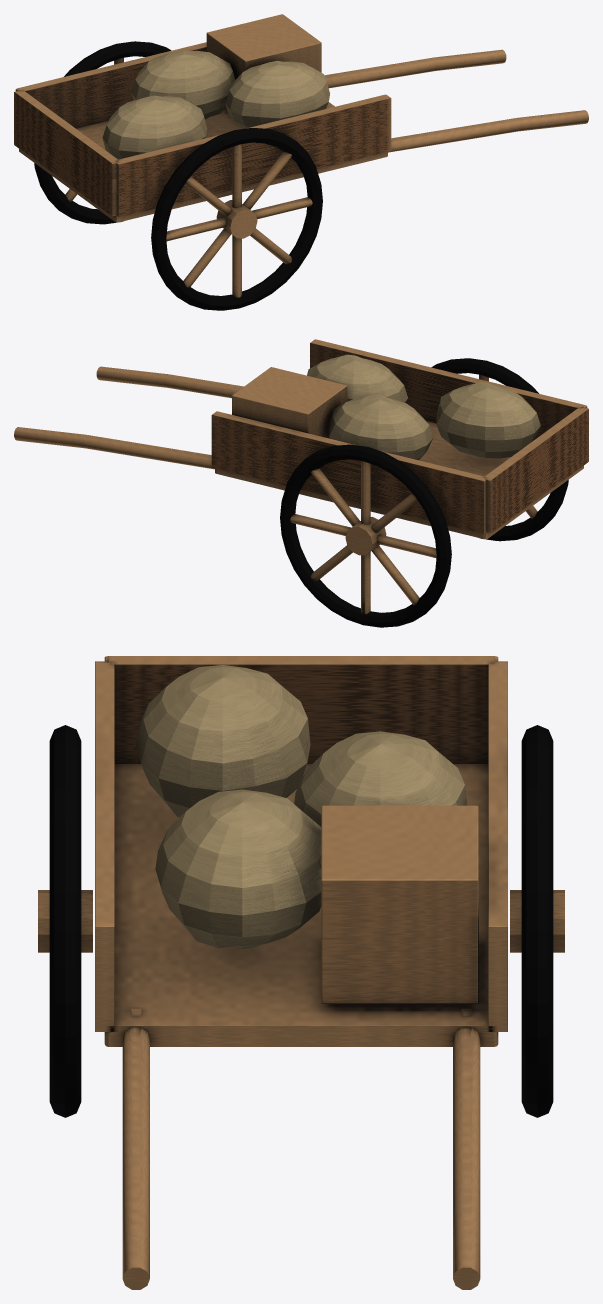
The model's file is cenario_carrinho_feira.glb.
3 views of the same model, one above another, from view 1: azimuth 30°, elevation 25°; view 2: azimuth 150°, elevation 25°; view 3: azimuth 270°, elevation 25° (orthographic). The views are drawn at different scales.
Visible parts, largest first — view 1: cenario_carrinho_feira; view 2: cenario_carrinho_feira; view 3: cenario_carrinho_feira.
Boxes of the visible parts, box(x1,y1,x2,y2) form: cenario_carrinho_feira: box(14, 14, 588, 310); cenario_carrinho_feira: box(14, 339, 588, 627); cenario_carrinho_feira: box(38, 656, 564, 1289).
Size of the model in its own units: 2.83 by 1.07 by 1.34.
Materials: 1 (1 with a texture image).
